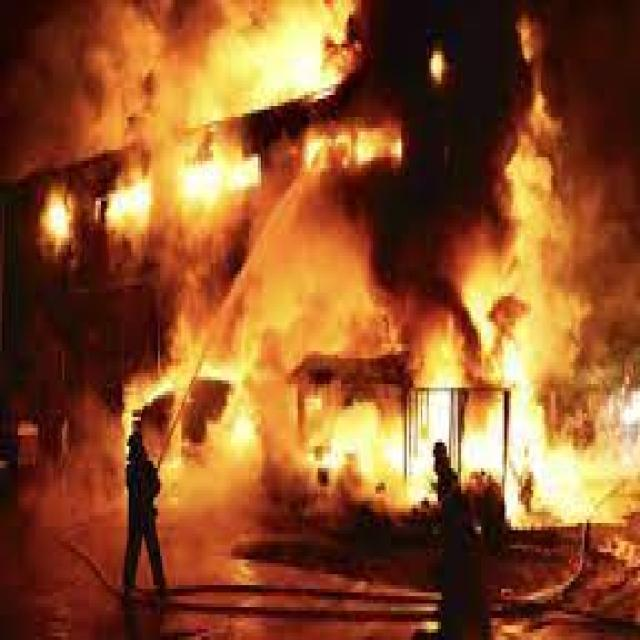Fire: (38, 0, 368, 142), (170, 135, 248, 208), (80, 166, 156, 236), (38, 182, 118, 246), (110, 168, 154, 226), (40, 192, 76, 248)
Smoke: (397, 25, 485, 191)
